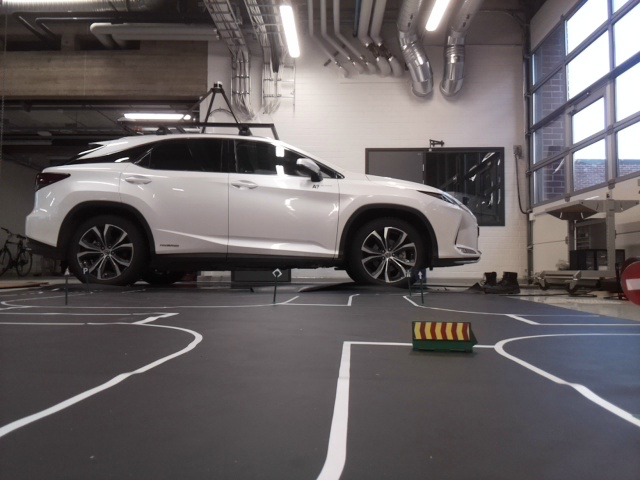ClosedRoadStand: (411, 320, 473, 345)
